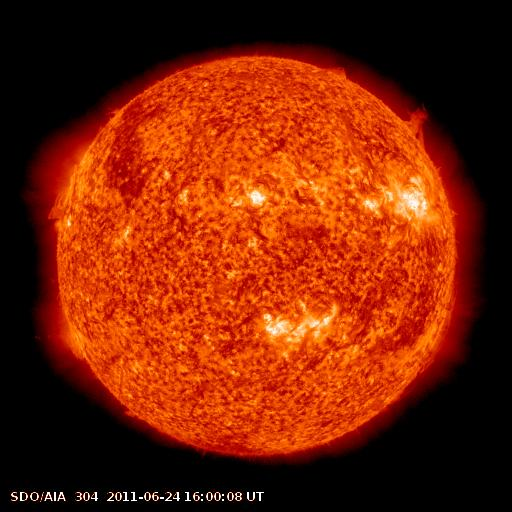prominence: (395, 98, 435, 153), (38, 186, 80, 230), (323, 53, 356, 87)
